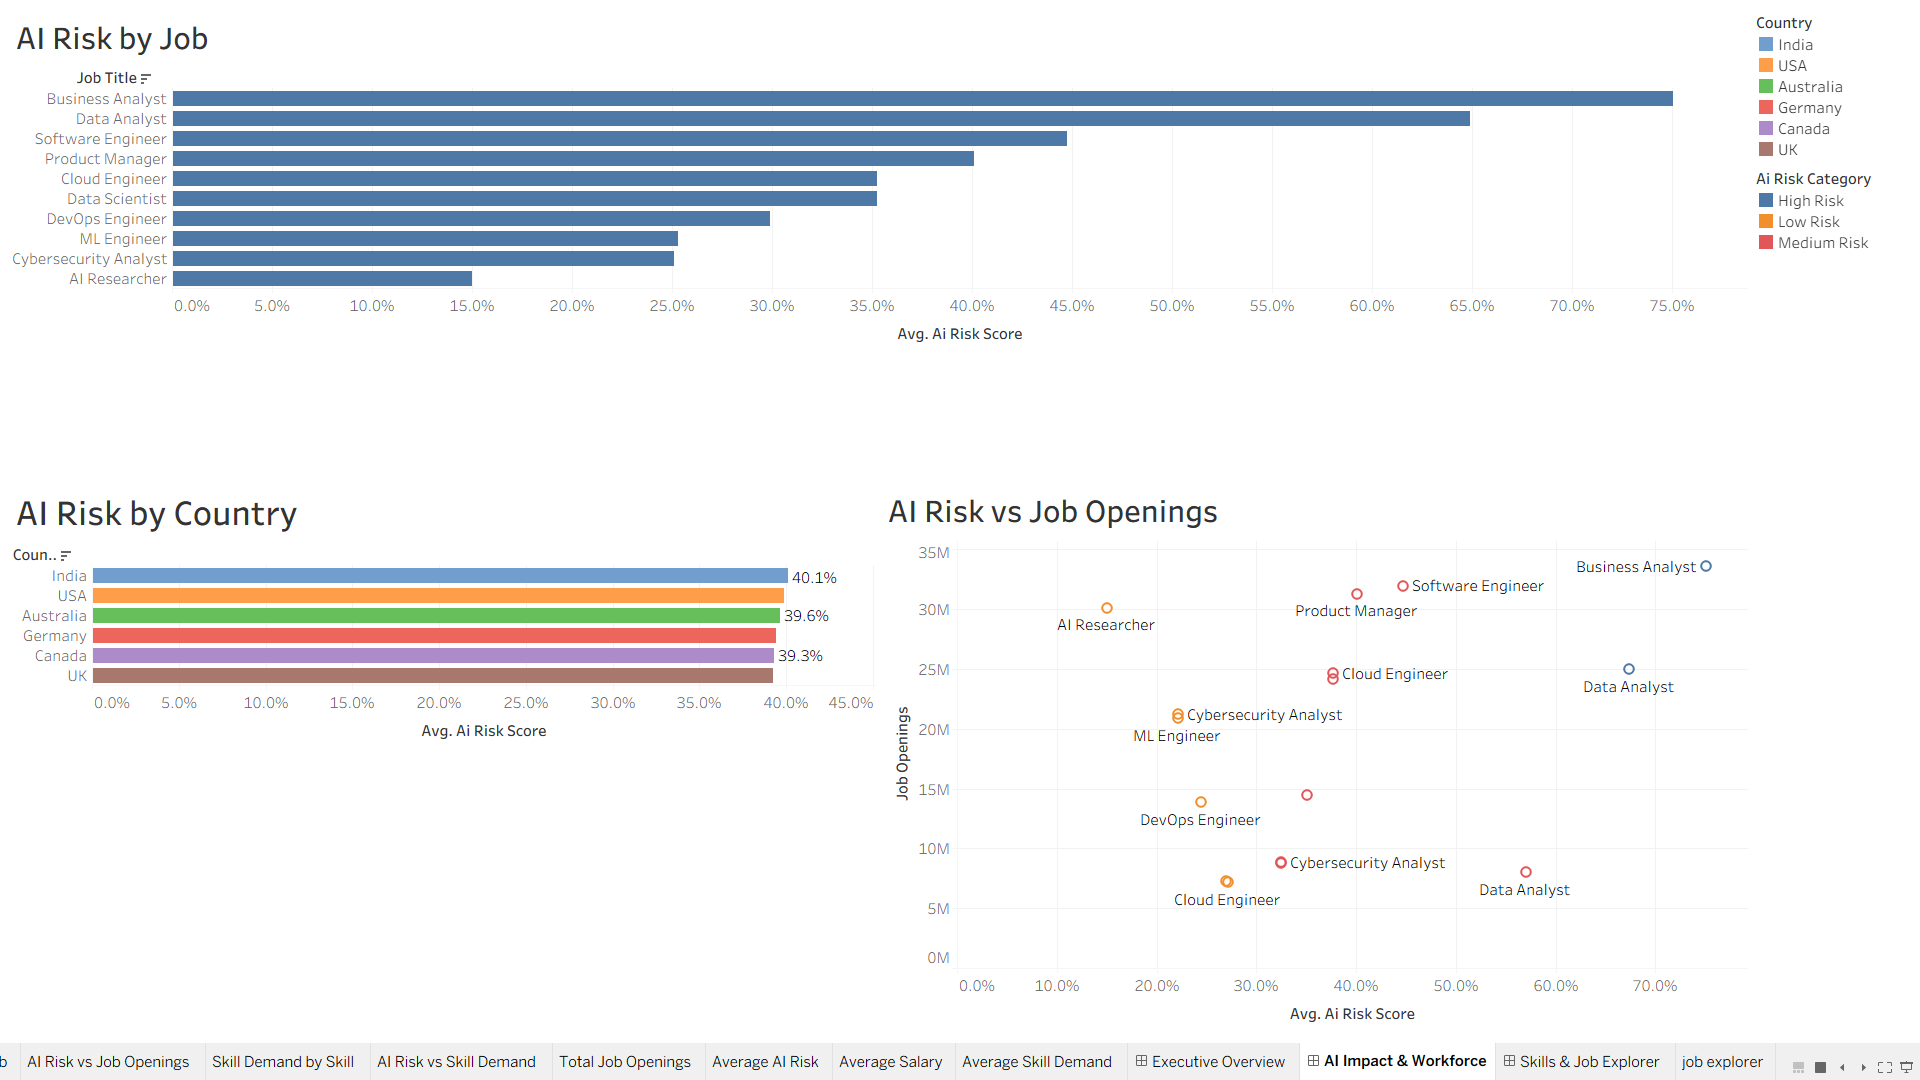

What the dashboard file says about the page in this screenshot:
{"tool":"tableau","page":{"name":"AI Impact & Workforce","canvas":[1000,1000],"units":"permille","ordinal":0},"visuals":[{"type":"worksheet","title":"AI Risk by Job","mark":"Bar","rows":["job_title"],"cols":["ai_risk_score"],"box":[4.8,9.3,893.9,451.8]},{"type":"legend","title":"AI Risk by Country","param":"[federated.0rj32n00e697yh0zkaz7m0jumep6].[none:country:nk]","box":[898.7,9.3,96.4,181.2]},{"type":"legend","title":"AI Risk vs Job Openings","param":"[federated.0rj32n00e697yh0zkaz7m0jumep6].[none:ai_risk_category:nk]","box":[898.7,190.5,96.4,108]},{"type":"worksheet","title":"AI Risk by Country","mark":"Bar","rows":["country"],"cols":["ai_risk_score"],"box":[4.8,461.1,447,529.6]},{"type":"worksheet","title":"AI Risk vs Job Openings","mark":"Automatic","rows":["job_openings"],"cols":["ai_risk_score"],"box":[451.8,461.1,447,529.6]}]}

Visuals, with their boxes on the dashboard's canvas, which has no fixed pixel size, in thousandths of its width and height (x1, y1, x2, y2). These are canvas units, not pixel positions in the 1920x1080 screenshot, which may show the page scaled, cropped or inside an application window:
"AI Risk by Job" worksheet (Bar marks): Rect(5, 9, 899, 461)
"AI Risk by Country" legend: Rect(899, 9, 995, 190)
"AI Risk vs Job Openings" legend: Rect(899, 190, 995, 298)
"AI Risk by Country" worksheet (Bar marks): Rect(5, 461, 452, 991)
"AI Risk vs Job Openings" worksheet: Rect(452, 461, 899, 991)
